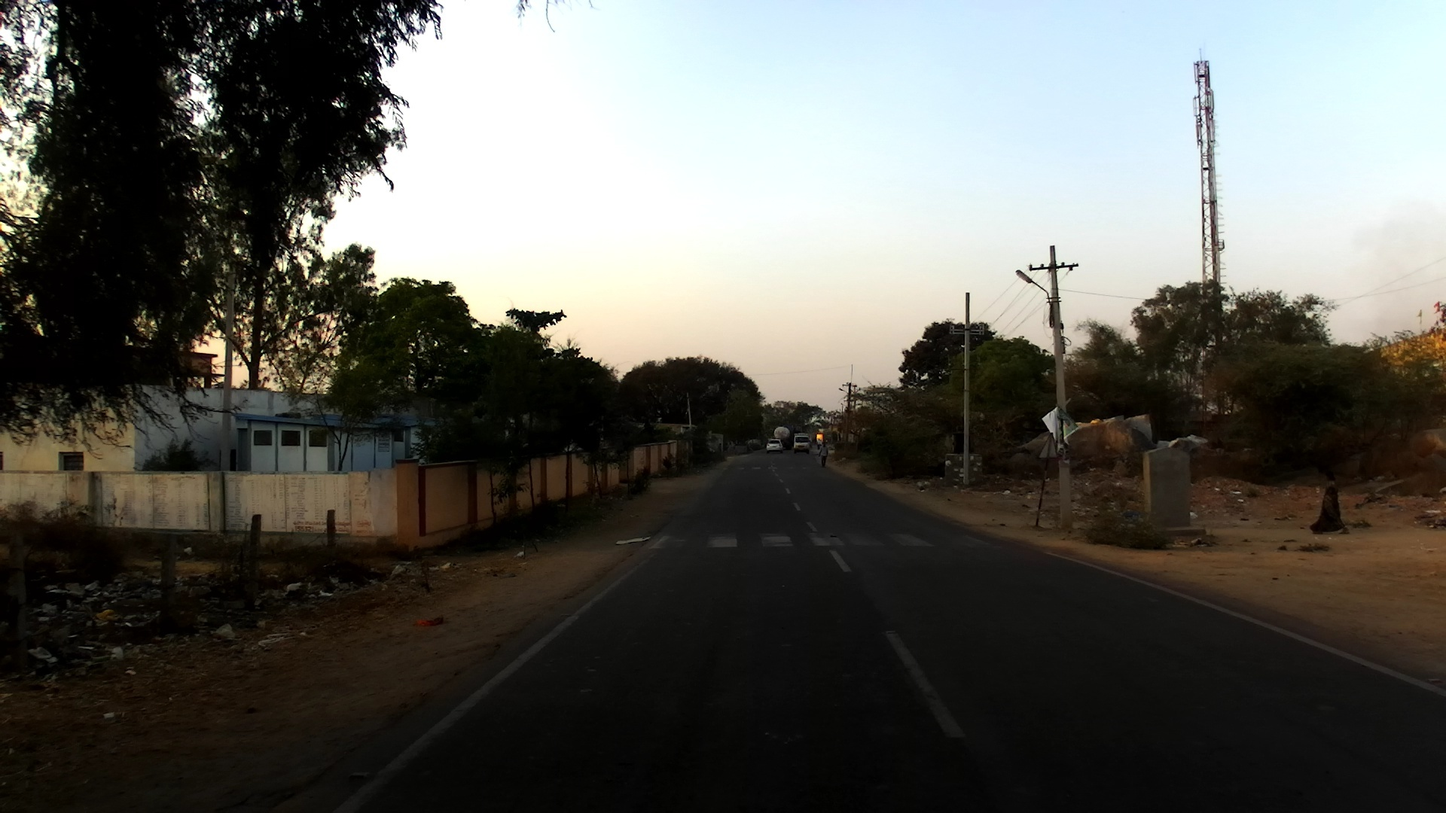car: (765, 437, 787, 455), (792, 434, 811, 454)
person: (1310, 473, 1349, 539), (818, 443, 829, 463)
truck: (771, 428, 793, 452)
